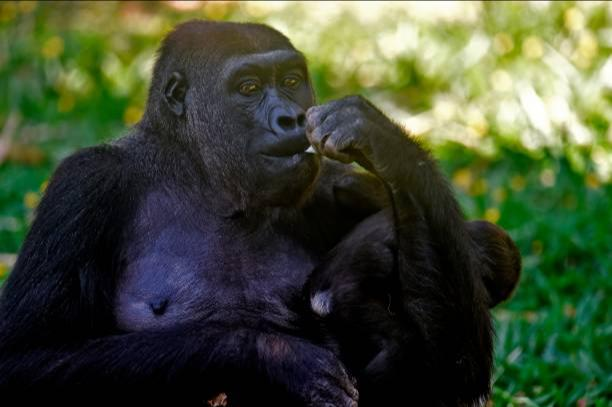gorille_Autres: (15, 3, 534, 406)
